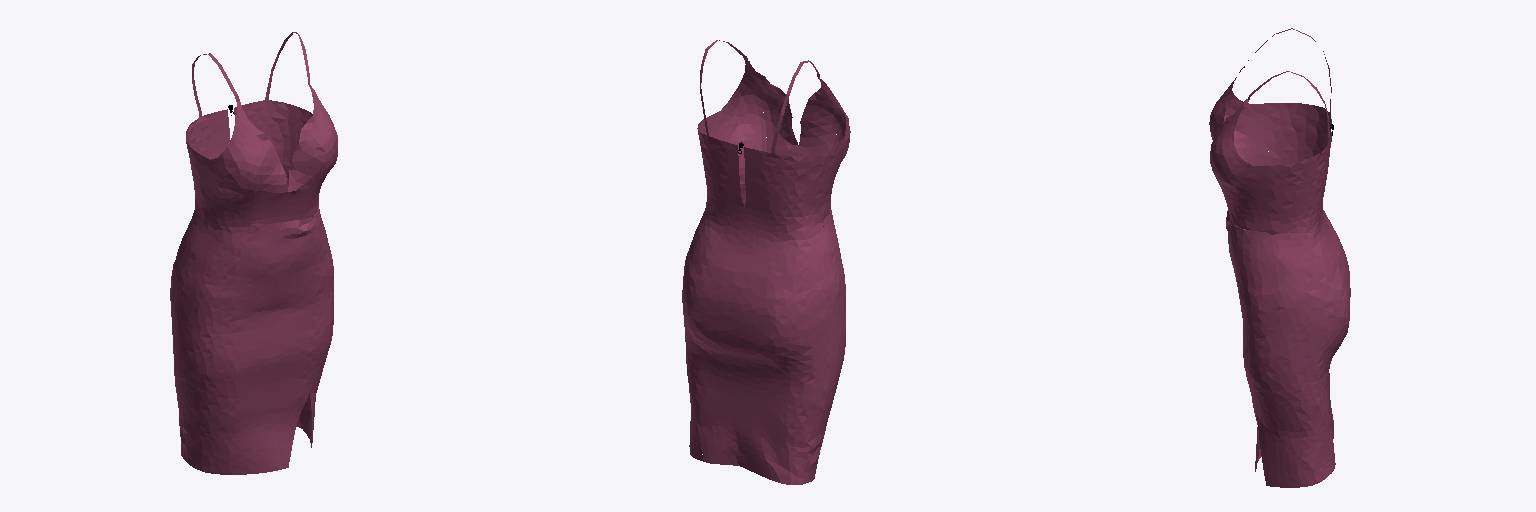
3 views of the same model, side by side, from view 1: azimuth 30°, elevation 25°; view 2: azimuth 150°, elevation 25°; view 3: azimuth 270°, elevation 25° (orthographic).
Parts seen in each view (by area): view 1: small_roseDress:Mesh; view 2: small_roseDress:Mesh; view 3: small_roseDress:Mesh.
Part boxes in pixels (x1,y1,x2,y2): small_roseDress:Mesh: (170, 32, 337, 474); small_roseDress:Mesh: (682, 40, 850, 484); small_roseDress:Mesh: (1209, 28, 1350, 487).
Size of the model in its own units: 326 by 878 by 270.
12 materials, 1 textured.